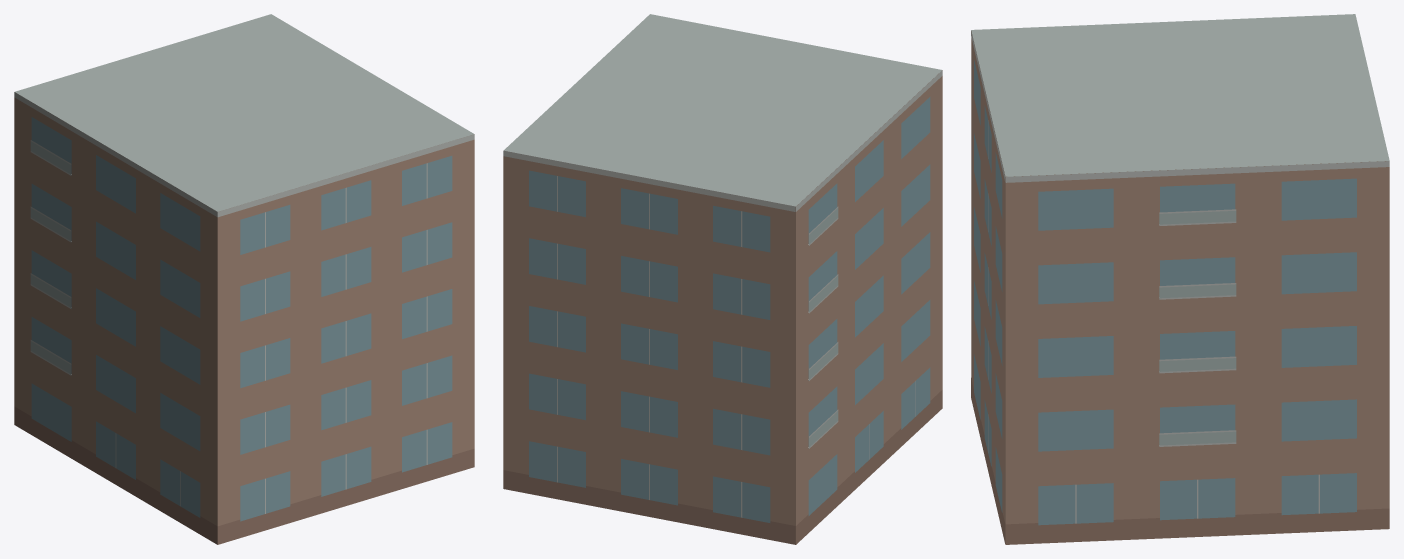
The model's file is survey-upis-32638827.glb.
3 renders of one model, left to right at view 1: azimuth 30°, elevation 25°; view 2: azimuth 150°, elevation 25°; view 3: azimuth 270°, elevation 25°, orthographic. The views are drawn at different scales.
Parts seen in each view (by area): view 1: survey-upis-32638827.tmp; view 2: survey-upis-32638827.tmp; view 3: survey-upis-32638827.tmp.
Part boxes in pixels (left/top/right/bottom): survey-upis-32638827.tmp: left=14, top=14, right=474, bottom=544; survey-upis-32638827.tmp: left=503, top=14, right=942, bottom=544; survey-upis-32638827.tmp: left=971, top=14, right=1389, bottom=544.
Bounding box in the file's own units: 14 × 14.75 × 15.21.
